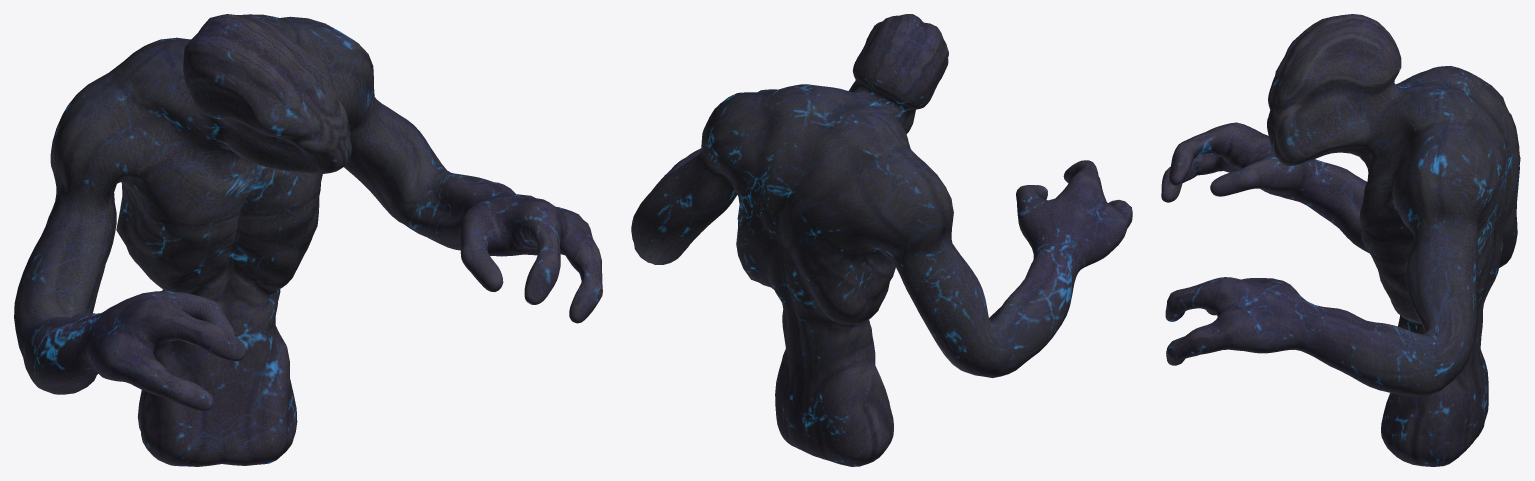
The model's file is pose01.fbx.
3 views of the same model, side by side, from view 1: azimuth 30°, elevation 25°; view 2: azimuth 150°, elevation 25°; view 3: azimuth 270°, elevation 25° (orthographic). The views are drawn at different scales.
Visible parts, largest first — view 1: Monster05; view 2: Monster05; view 3: Monster05.
Boxes of the visible parts, left/top/right/bottom form: Monster05: left=14, top=14, right=602, bottom=466; Monster05: left=631, top=14, right=1132, bottom=466; Monster05: left=1161, top=14, right=1520, bottom=466.
Bounding box in the file's own units: 1.24 × 1.19 × 0.9295.
